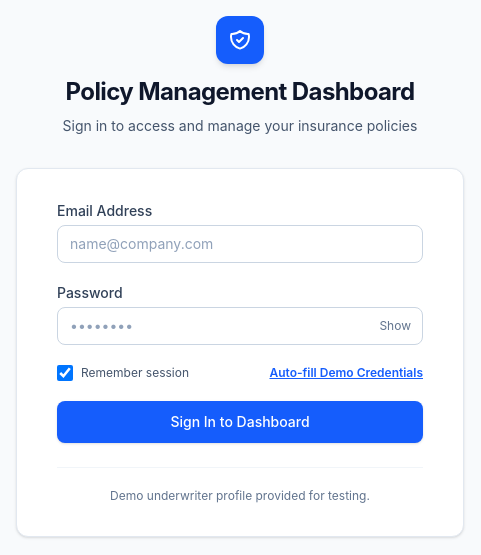
Test: LoginPage Component › auto-fills demo credentials when button is clicked
Click the button "Auto-fill Demo Credentials". click: (346, 372)
box: [270,364,423,380]
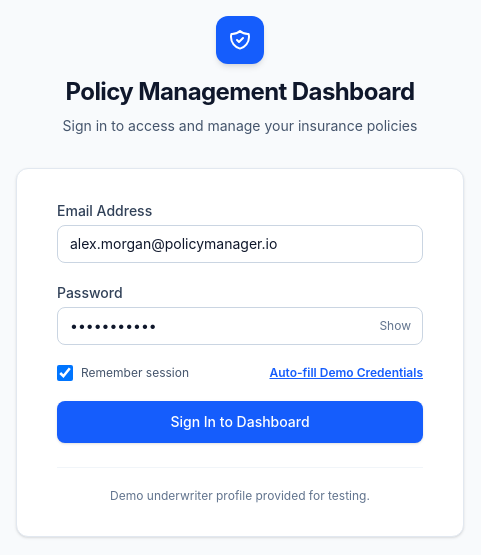
Now the field labelled "Email Address" holds "alex.morgan@policymanager.io", box [57,224,423,262]
Now the password field labelled "Password" holds "password123", box [57,306,423,344]
